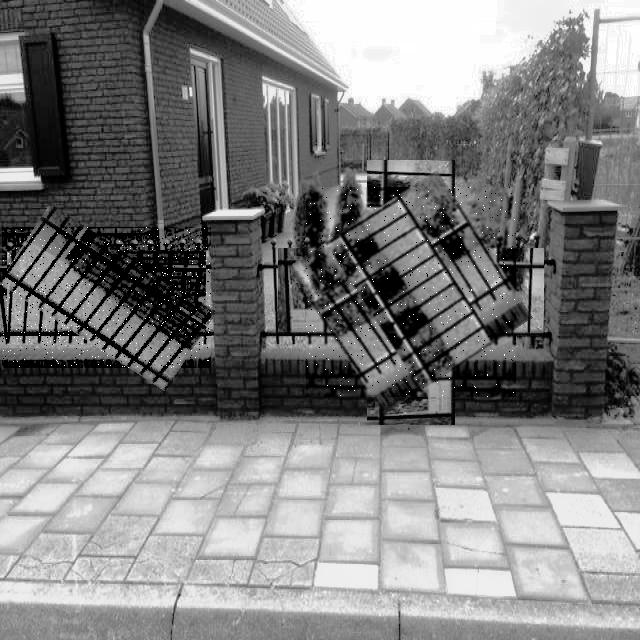fences: (306, 187, 516, 397), (2, 227, 211, 368)
